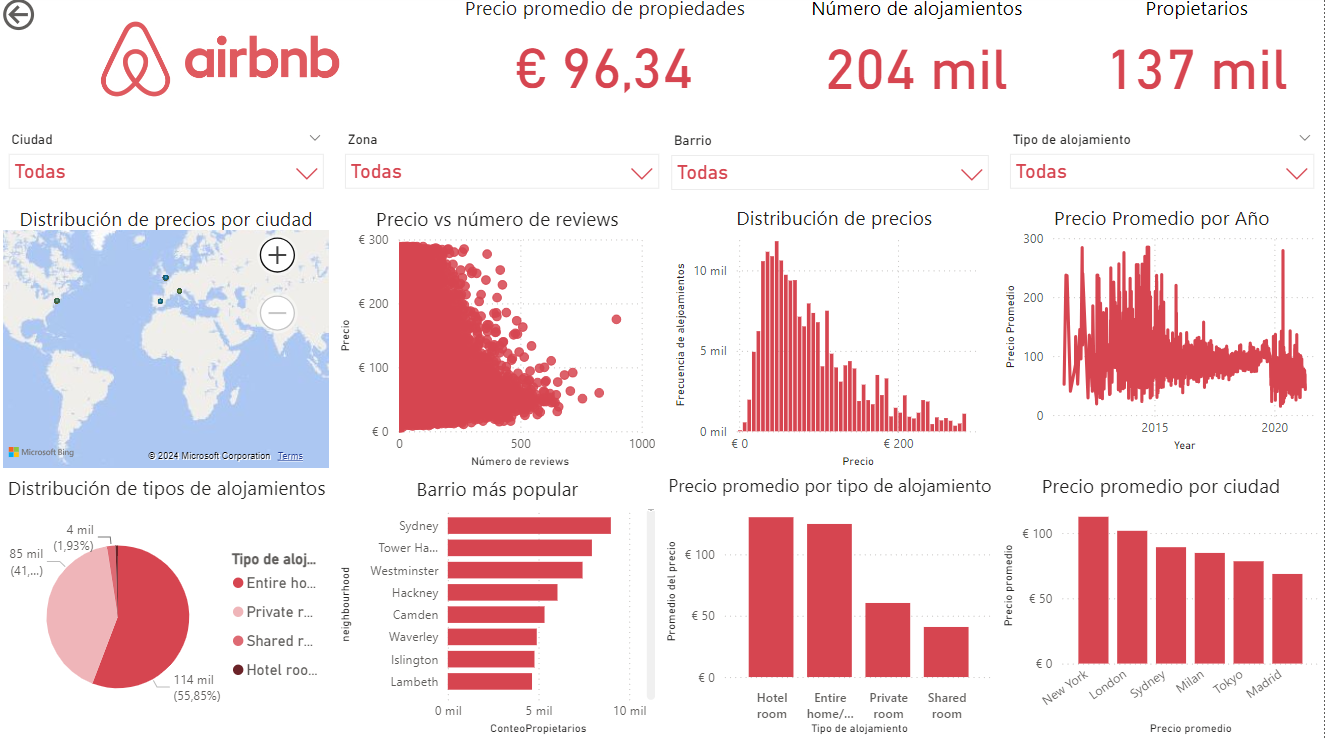

What the dashboard file says about the page in this screenshot:
{"tool":"powerbi","page":{"name":"Página 1","canvas":[1280,720],"ordinal":0},"visuals":[{"type":"map","title":"Distribución de precios por ciudad","fields":{"Y":["df_luxury.latitude"],"X":["df_luxury.longitude"]},"box":[29.6,179.6,324.1,271.1],"z":0},{"type":"actionButton","box":[0,0,100,40],"z":1000},{"type":"slicer","fields":{"Values":["df_luxury.city"]},"box":[37,105,301.5,74.9],"z":2000},{"type":"pieChart","fields":{"Category":["df_luxury.room_type"],"Y":["df_luxury.TotalFilas"]},"box":[0,466.8,353.7,253.2],"z":3000},{"type":"slicer","fields":{"Values":["df_luxury.neighbourhood_group"]},"box":[377.1,105,299.9,66.4],"z":4000},{"type":"slicer","fields":{"Values":["df_luxury.neighbourhood"]},"box":[698.5,105,281.9,80.8],"z":5000},{"type":"slicer","fields":{"Values":["df_luxury.room_type"]},"box":[1001,105,268.4,82.6],"z":6000},{"type":"scatterChart","title":"Precio vs número de reviews ","fields":{"X":["df_luxury.number_of_reviews"],"Y":["df_luxury.price_eur"]},"box":[400.4,187.6,276.5,263],"z":7000},{"type":"card","title":"Precio promedio de propiedades","fields":{"Values":["Avg(df_luxury.price_eur)"]},"box":[400.4,0,284.6,92.5],"z":8000},{"type":"card","title":"Número de alojamientos","fields":{"Values":["Count(df_luxury.id)"]},"box":[721.8,0,258.6,92.5],"z":9000},{"type":"card","title":"Propietarios","fields":{"Values":["Count(df_luxury.host_id)"]},"box":[1018.1,0,257.7,92.5],"z":10000},{"type":"clusteredColumnChart","title":"Distribución de precios","fields":{"Category":["df_luxury.price_eur"],"Y":["df_luxury.TotalFilas"]},"box":[688.6,171.5,300.7,279.2],"z":11000},{"type":"barChart","title":"Barrio más popular","fields":{"Category":["df_luxury.neighbourhood"],"Y":["CountNonNull(df_luxury.id)"]},"box":[400.4,465.9,276.5,253.2],"z":12000},{"type":"lineChart","title":"Precio Promedio por Año","fields":{"Y":["Avg(df_luxury.price_eur)"],"Category":["df_luxury.last_review.Variación.Jerarquía de fechas.Año","df_luxury.last_review.Variación.Jerarquía de fechas.Trimestre","df_luxury.last_review.Variación.Jerarquía de fechas.Mes","df_luxury.last_review.Variación.Jerarquía de fechas.Día"]},"box":[1011.8,175.1,246.9,275.6],"z":13000},{"type":"clusteredColumnChart","title":"Precio por tipo de alojamiento","fields":{"Category":["df_luxury.room_type"],"Y":["Avg(df_luxury.price_eur)"]},"box":[689.5,465.9,299,253.2],"z":14000},{"type":"clusteredColumnChart","title":"Precio promedio por ciudad","fields":{"Y":["Avg(df_luxury.price_eur)"],"Category":["df_luxury.city"]},"box":[1018,466,247,253],"z":15000},{"type":"image","box":[46.7,0,300.7,92.5],"z":16000}]}

Visuals, with their boxes in screenshot pixels (x1, y1, x2, y2), scaled from the page's 1280x720 canvas onto the 1325x739 screenshot:
"Distribución de precios por ciudad" map: detection(31, 184, 366, 463)
actionButton: detection(0, 0, 104, 41)
slicer - df_luxury.city: detection(38, 108, 350, 185)
pieChart - df_luxury.room_type x df_luxury.TotalFilas: detection(0, 479, 366, 738)
slicer - df_luxury.neighbourhood_group: detection(390, 108, 701, 176)
slicer - df_luxury.neighbourhood: detection(723, 108, 1015, 191)
slicer - df_luxury.room_type: detection(1036, 108, 1314, 193)
"Precio vs número de reviews " scatterChart: detection(414, 193, 701, 462)
"Precio promedio de propiedades" card: detection(414, 0, 709, 95)
"Número de alojamientos" card: detection(747, 0, 1015, 95)
"Propietarios" card: detection(1054, 0, 1321, 95)
"Distribución de precios" clusteredColumnChart: detection(713, 176, 1024, 463)
"Barrio más popular" barChart: detection(414, 478, 701, 738)
"Precio Promedio por Año" lineChart: detection(1047, 180, 1303, 463)
"Precio por tipo de alojamiento" clusteredColumnChart: detection(714, 478, 1023, 738)
"Precio promedio por ciudad" clusteredColumnChart: detection(1054, 478, 1309, 738)
image: detection(48, 0, 360, 95)
